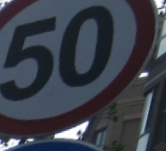Speed limit: (1, 4, 136, 130)
